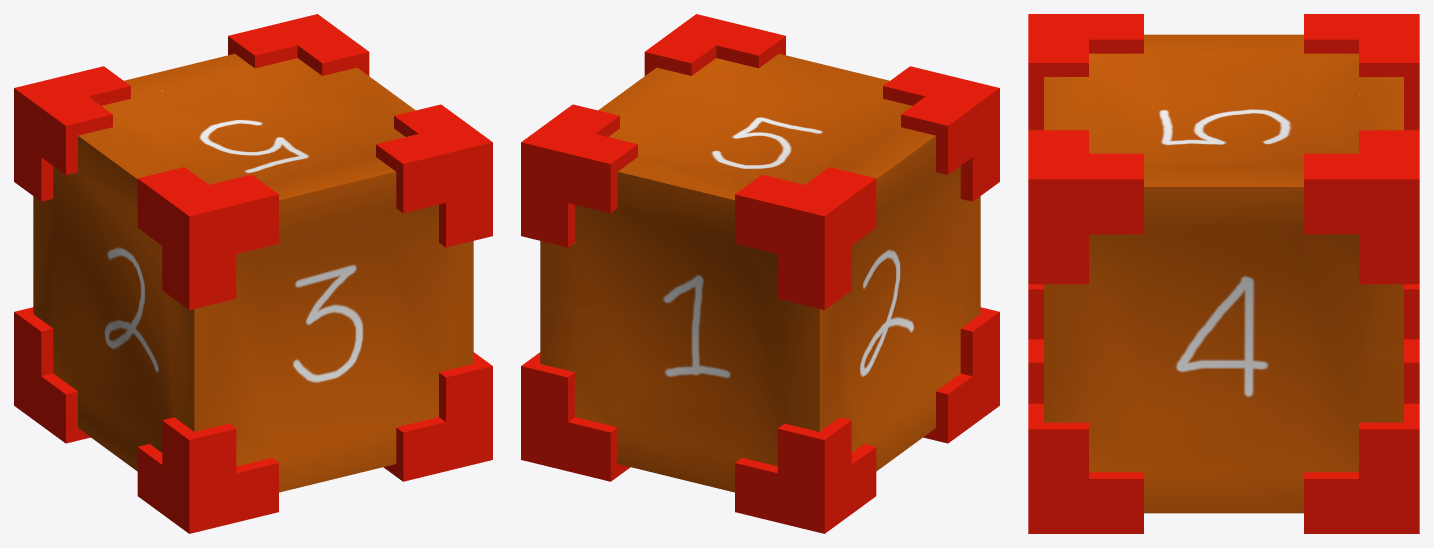
3 views of the same model, side by side, from view 1: azimuth 30°, elevation 25°; view 2: azimuth 150°, elevation 25°; view 3: azimuth 270°, elevation 25° (orthographic). The views are drawn at different scales.
Parts seen in each view (by area): view 1: Cube; view 2: Cube; view 3: Cube.
Part boxes in pixels (x1,y1,x2,y2): Cube: [14, 14, 492, 533]; Cube: [521, 14, 999, 533]; Cube: [1028, 14, 1419, 533].
Bounding box in the file's own units: 2.45 × 2.45 × 2.45.
Materials: 2 (1 with a texture image).
